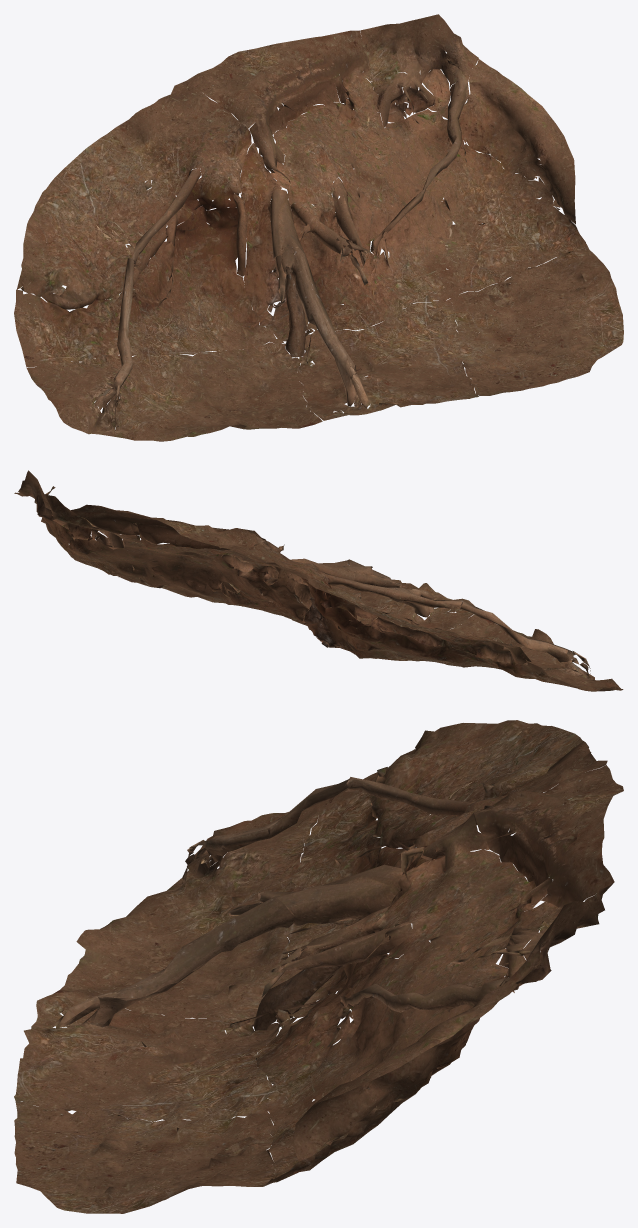
Rendered from root_cluster_01.glb.
The picture shows the model from 3 angles, top to bottom: view 1: azimuth 30°, elevation 25°; view 2: azimuth 150°, elevation 25°; view 3: azimuth 270°, elevation 25°; orthographic projection. The views are drawn at different scales.
Visible parts, largest first — view 1: root_cluster_01; view 2: root_cluster_01; view 3: root_cluster_01.
Part boxes in pixels (x1=…): root_cluster_01: x1=14, y1=14, x2=623, y2=441; root_cluster_01: x1=14, y1=470, x2=623, y2=691; root_cluster_01: x1=14, y1=720, x2=623, y2=1213.
Bounding box in the file's own units: 4.12 × 1.51 × 2.68.
1 material, 1 textured.
